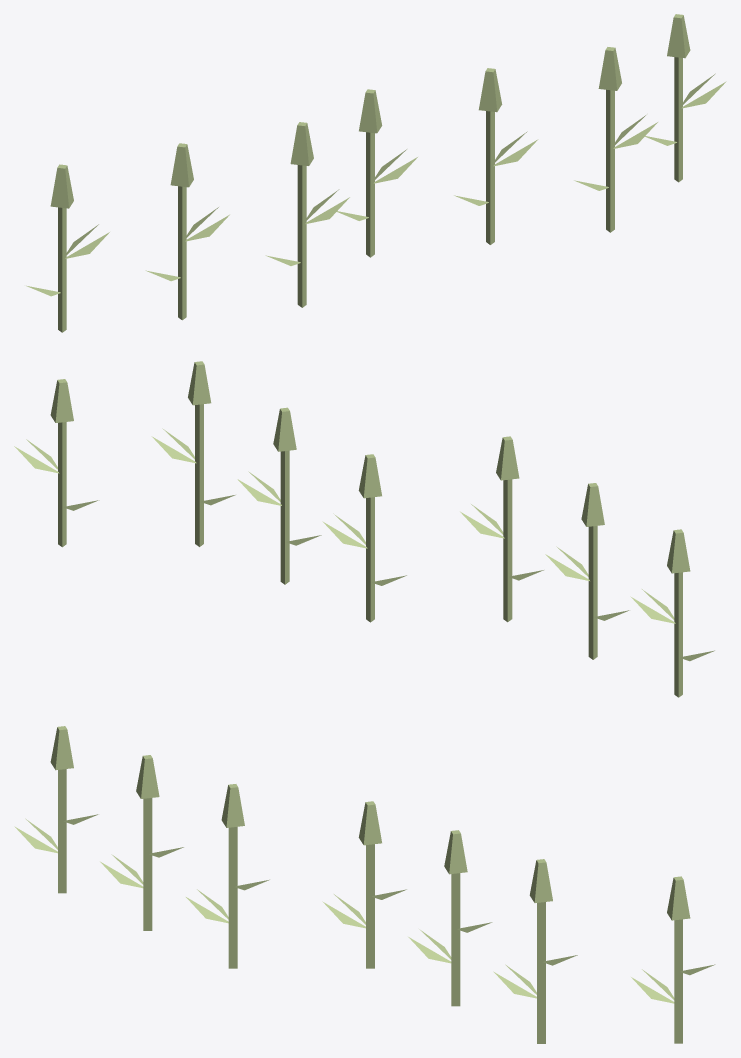
The model's file is crop-row-green.glb.
3 views of the same model, one above another, from view 1: azimuth 30°, elevation 25°; view 2: azimuth 150°, elevation 25°; view 3: azimuth 330°, elevation 25° (orthographic).
Visible parts, largest first — view 1: crop-row-green; view 2: crop-row-green; view 3: crop-row-green.
Part boxes in pixels (bbox=[...]): crop-row-green: bbox=[26, 14, 726, 332]; crop-row-green: bbox=[14, 361, 714, 697]; crop-row-green: bbox=[14, 726, 715, 1043].
Bounding box in the file's own units: 3.76 × 0.93 × 0.47.
